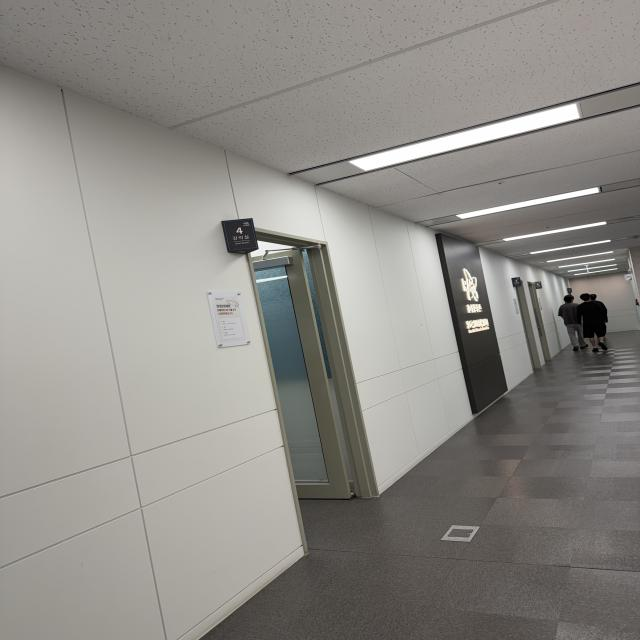sign: (222, 219, 257, 250)
